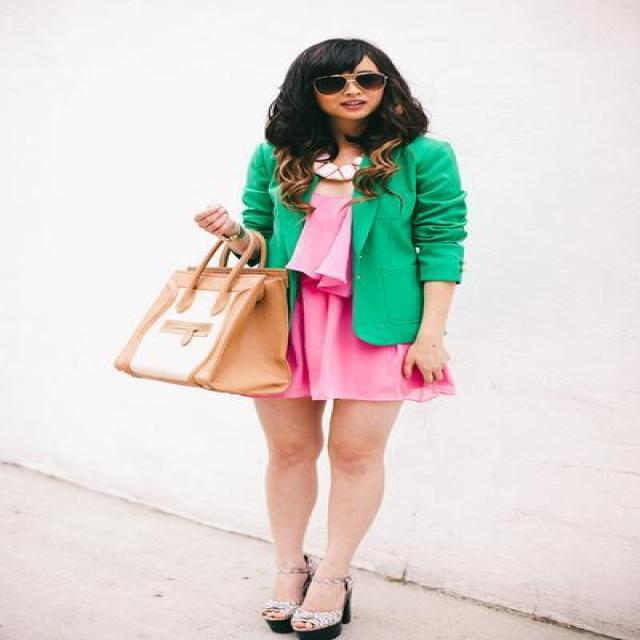bag: (114, 226, 302, 394)
dress: (269, 181, 453, 402)
jacket: (242, 133, 466, 344)
shoe: (268, 593, 326, 626)
